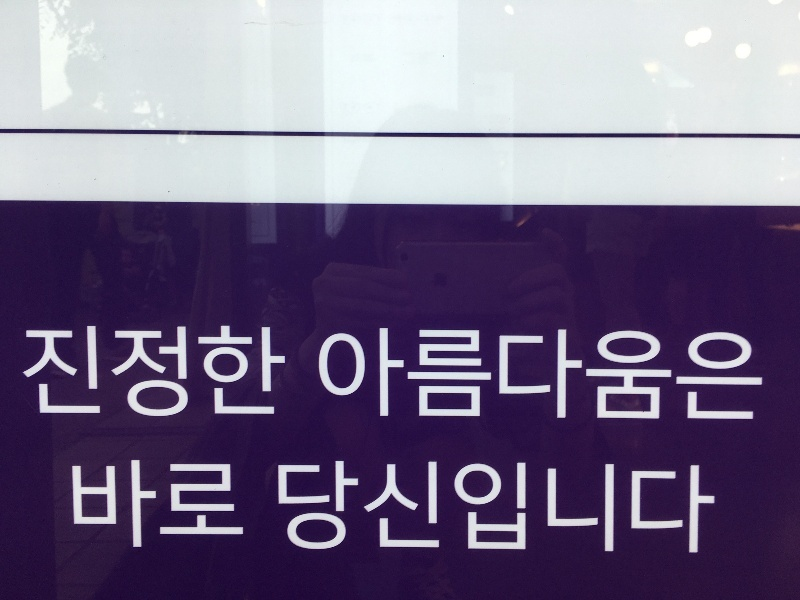text: (321, 325, 336, 429), (337, 325, 352, 429), (353, 325, 368, 429), (369, 325, 384, 429), (385, 325, 400, 429), (401, 325, 416, 429), (417, 325, 432, 429), (433, 325, 448, 429), (449, 325, 464, 429), (465, 325, 480, 429), (481, 325, 496, 429), (497, 325, 512, 429), (513, 325, 528, 429), (529, 325, 544, 429), (545, 325, 560, 429), (561, 325, 576, 429), (577, 325, 592, 429), (593, 325, 608, 429), (609, 325, 624, 429), (625, 325, 640, 429), (641, 325, 656, 429), (657, 325, 672, 429), (673, 325, 688, 429), (689, 325, 704, 429), (705, 325, 720, 429), (721, 325, 736, 429), (737, 325, 752, 429), (33, 322, 48, 423), (49, 322, 64, 423), (65, 322, 80, 423), (81, 322, 96, 423), (97, 322, 112, 423), (113, 322, 128, 423), (129, 322, 144, 423), (145, 322, 160, 423), (161, 322, 176, 423), (177, 322, 192, 423), (193, 322, 208, 423), (209, 322, 224, 423), (225, 322, 240, 423), (241, 322, 256, 423), (257, 322, 272, 423), (273, 322, 288, 423), (289, 458, 304, 558), (305, 458, 320, 558), (321, 458, 336, 558), (337, 458, 352, 558), (353, 458, 368, 558), (369, 458, 384, 558), (385, 458, 400, 558), (401, 458, 416, 558), (417, 458, 432, 558), (433, 458, 448, 558), (449, 458, 464, 558), (465, 458, 480, 558), (481, 458, 496, 558), (497, 458, 512, 558), (513, 458, 528, 558), (529, 458, 544, 558), (545, 458, 560, 558), (561, 458, 576, 558), (577, 458, 592, 558), (593, 458, 608, 558), (609, 458, 624, 558), (625, 458, 640, 558), (641, 458, 656, 558), (657, 458, 672, 558), (673, 458, 688, 558), (689, 458, 704, 558), (81, 459, 96, 552), (97, 459, 112, 552), (113, 459, 128, 552), (129, 459, 144, 552), (145, 459, 160, 552), (161, 459, 176, 552), (177, 459, 192, 552), (193, 459, 208, 552), (209, 459, 224, 552), (225, 459, 240, 552), (753, 325, 766, 429), (705, 458, 717, 558), (21, 322, 32, 423), (277, 458, 288, 558), (70, 459, 80, 552), (241, 459, 246, 552), (318, 325, 320, 429)
